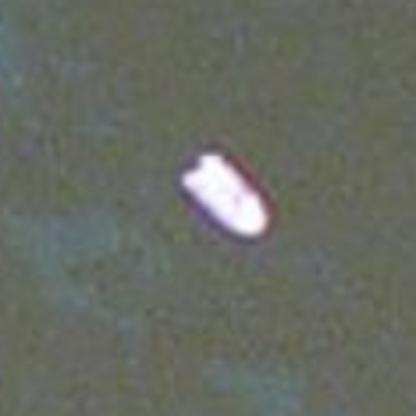ship: (167, 140, 284, 249)
